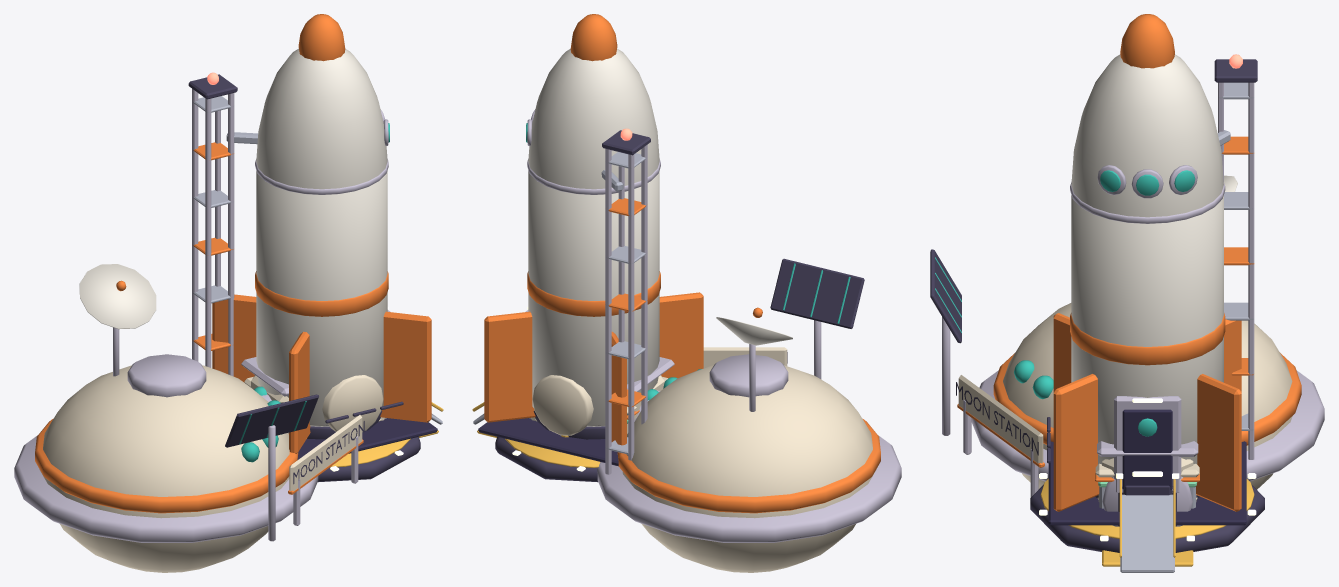
File: sweep-assets.glb
3 renders of one model, left to right at view 1: azimuth 30°, elevation 25°; view 2: azimuth 150°, elevation 25°; view 3: azimuth 270°, elevation 25°, orthographic. The views are drawn at different scales.
Visible parts, largest first — view 1: hub_mesh, rocket_mesh, launchpad_mesh, hsign_mesh, depot_mesh, hangar_mesh, rnose; view 2: hub_mesh, rocket_mesh, launchpad_mesh, depot_mesh, hangar_mesh, rnose, hsign_mesh; view 3: rocket_mesh, hub_mesh, launchpad_mesh, depot_mesh, hsign_mesh, rnose, dock_mesh.
Part boxes in pixels (<box>): hub_mesh: <box>14,264,438,572</box>; rocket_mesh: <box>212,48,443,453</box>; launchpad_mesh: <box>188,72,420,482</box>; hsign_mesh: <box>288,415,364,525</box>; depot_mesh: <box>241,357,437,459</box>; hangar_mesh: <box>322,375,384,431</box>; rnose: <box>298,14,345,61</box>; hub_mesh: <box>477,258,901,572</box>; rocket_mesh: <box>472,48,703,453</box>; launchpad_mesh: <box>495,128,650,482</box>; depot_mesh: <box>478,357,674,466</box>; hangar_mesh: <box>531,375,628,435</box>; rnose: <box>570,14,617,61</box>; hsign_mesh: <box>703,347,787,368</box>; rocket_mesh: <box>1053,54,1241,572</box>; hub_mesh: <box>930,175,1324,566</box>; launchpad_mesh: <box>1030,54,1264,552</box>; depot_mesh: <box>1047,417,1246,526</box>; hsign_mesh: <box>956,375,1044,497</box>; rnose: <box>1120,14,1174,68</box>; dock_mesh: <box>1095,463,1199,508</box>.
Bounding box in the file's own units: 8.67 × 10.59 × 6.46.
